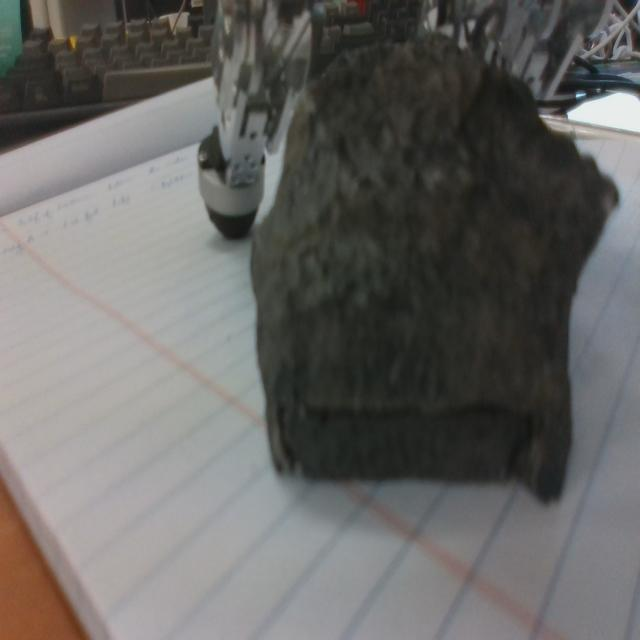stone: (249, 29, 621, 508)
